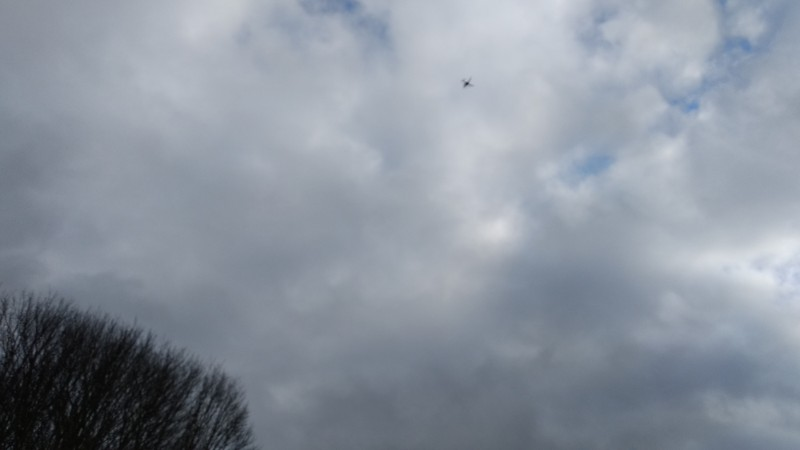drone: (461, 76, 473, 87)
